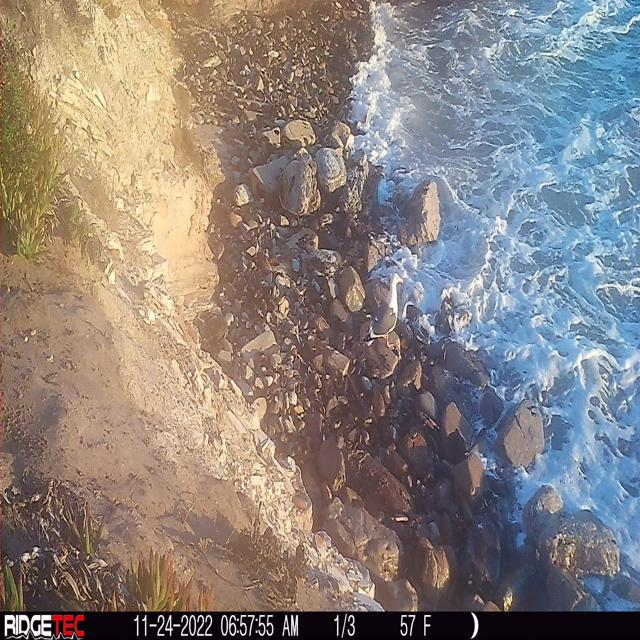bird: (366, 261, 406, 349)
